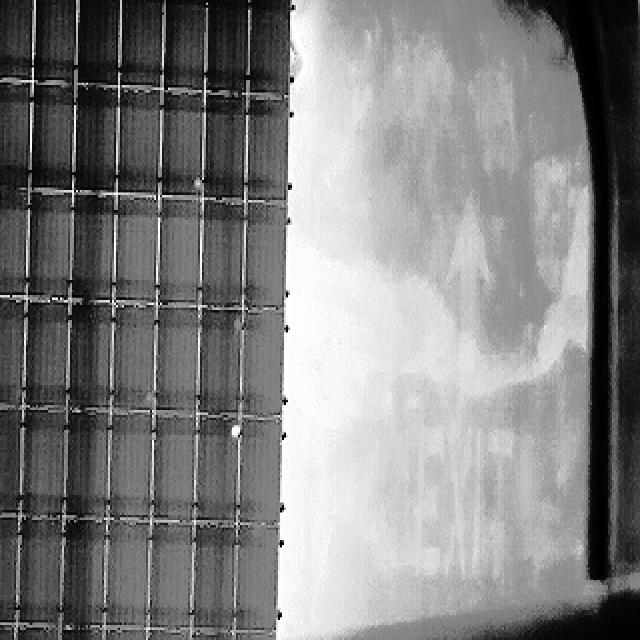Hotspots: (190, 174, 205, 196), (234, 316, 247, 338)
PV-modules: (192, 418, 239, 526), (29, 193, 75, 303), (64, 413, 110, 523), (158, 197, 204, 306), (190, 520, 236, 628), (66, 302, 112, 410), (155, 307, 201, 415), (237, 524, 283, 632), (198, 306, 243, 416), (239, 420, 285, 527), (19, 518, 65, 625), (104, 521, 149, 630), (108, 414, 153, 523), (72, 85, 117, 193), (23, 411, 68, 519), (61, 514, 105, 624), (28, 300, 72, 410), (242, 311, 286, 420), (30, 84, 75, 190), (200, 202, 244, 310), (154, 417, 198, 524), (162, 91, 206, 198), (69, 197, 112, 306), (201, 95, 245, 201), (154, 518, 197, 626), (119, 89, 162, 197), (248, 97, 292, 202), (115, 195, 158, 302), (246, 204, 288, 312), (248, 0, 294, 98), (112, 304, 154, 411), (30, 0, 78, 88), (202, 0, 246, 95), (164, 0, 208, 92), (120, 0, 164, 90), (72, 0, 116, 88), (0, 80, 30, 188), (0, 0, 38, 85), (0, 190, 26, 300), (0, 298, 22, 408), (0, 405, 20, 515), (0, 510, 16, 620)
